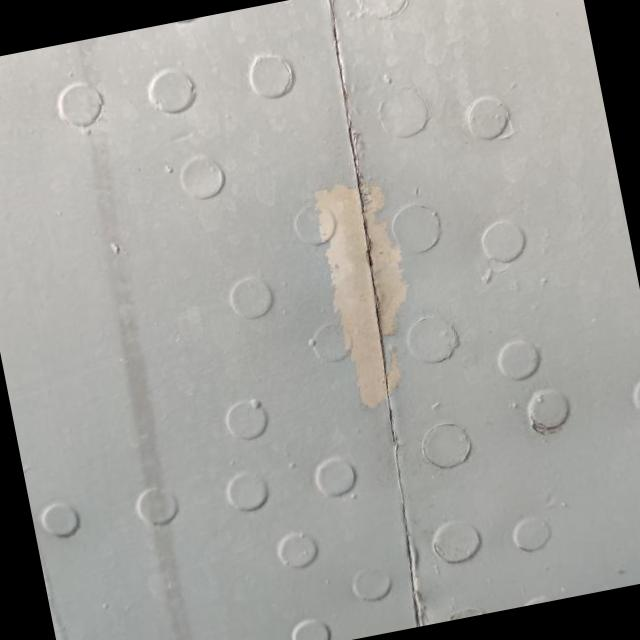Paint-off: (314, 181, 406, 411)
